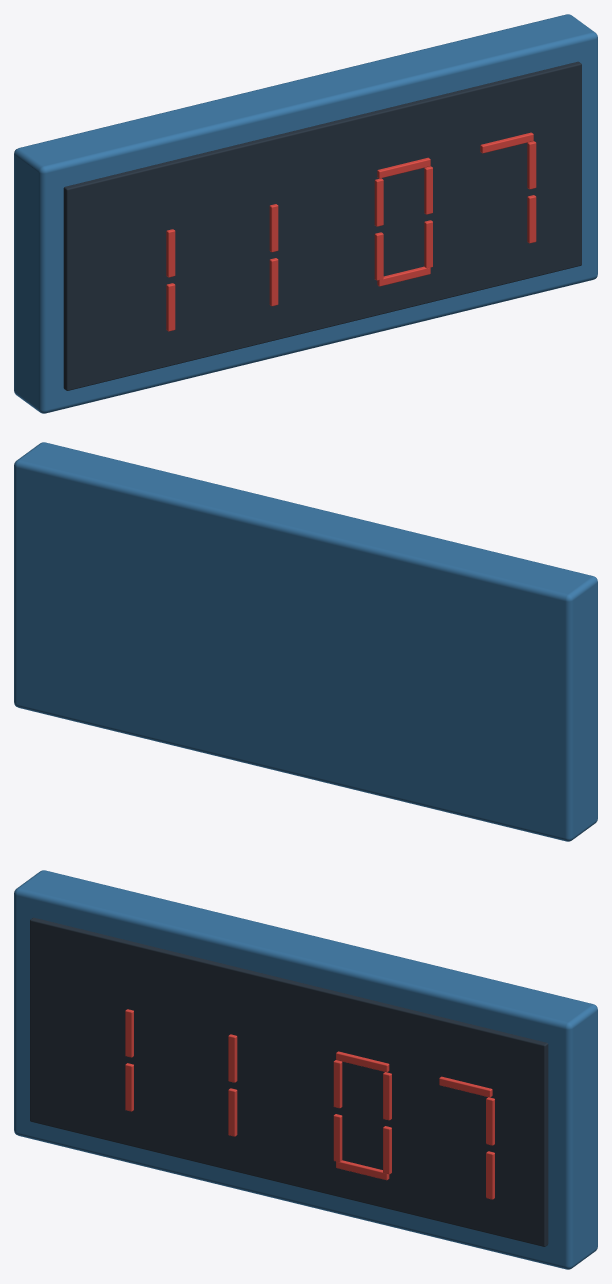
Rendered from squash-club-and-racket-workshop-scoreboard-82fd1ad8__29745.glb.
3 renders of one model, top to bottom at view 1: azimuth 30°, elevation 25°; view 2: azimuth 150°, elevation 25°; view 3: azimuth 330°, elevation 25°, orthographic.
Visible parts, largest first — view 1: scoreboard; view 2: scoreboard; view 3: scoreboard.
Part boxes in pixels (x1,y1,x2,y2): scoreboard: [14, 14, 597, 413]; scoreboard: [14, 442, 597, 841]; scoreboard: [14, 870, 597, 1269].
Size of the model in its own units: 1.3 by 0.5499 by 0.148.
